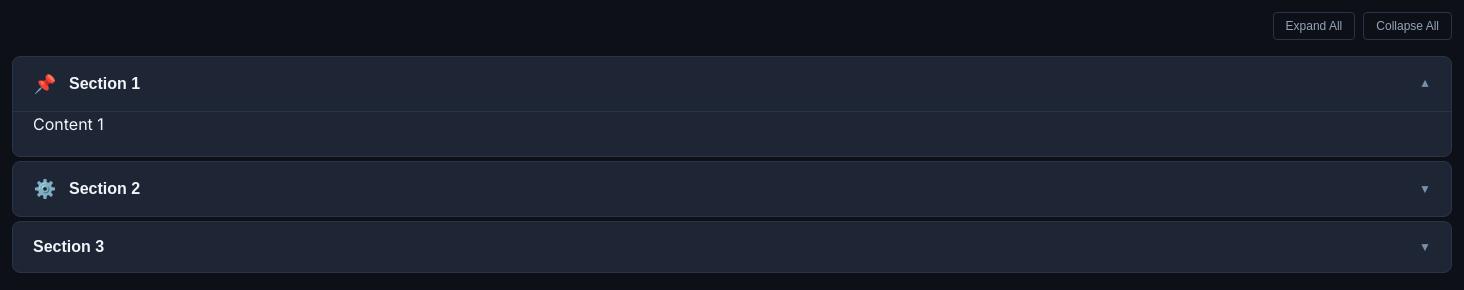
it: SettingsAccordion › expand/collapse behavior › collapses section when header is clicked again
Click the button "📌 Section 1 ▼" at (105, 84), box [13, 57, 1451, 111]
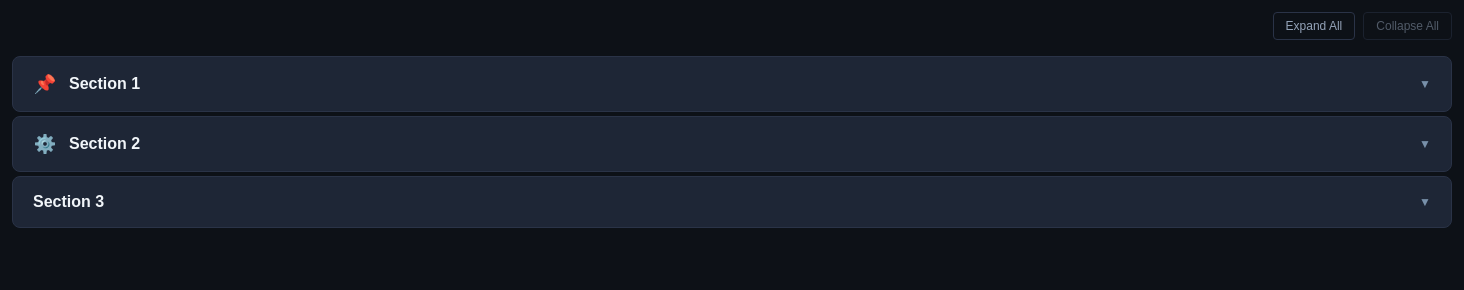
Result: the text "Content 1" is gone
